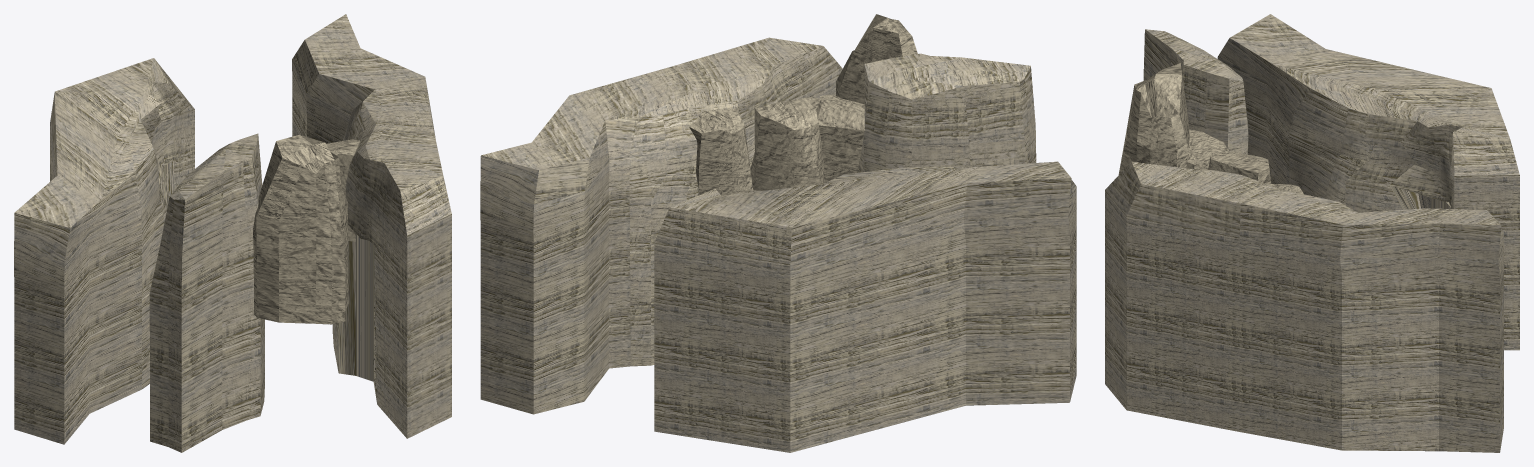
Rendered from SM_Chateaux_01_02.fbx.
3 renders of one model, left to right at view 1: azimuth 30°, elevation 25°; view 2: azimuth 150°, elevation 25°; view 3: azimuth 270°, elevation 25°, orthographic. The views are drawn at different scales.
Parts seen in each view (by area): view 1: SM_Chateaux_01_02; view 2: SM_Chateaux_01_02; view 3: SM_Chateaux_01_02.
Part boxes in pixels (<box>): SM_Chateaux_01_02: <box>14,14,451,452</box>; SM_Chateaux_01_02: <box>480,14,1076,452</box>; SM_Chateaux_01_02: <box>1105,14,1519,452</box>.
Size of the model in its own units: 19372 by 12137 by 16009.
